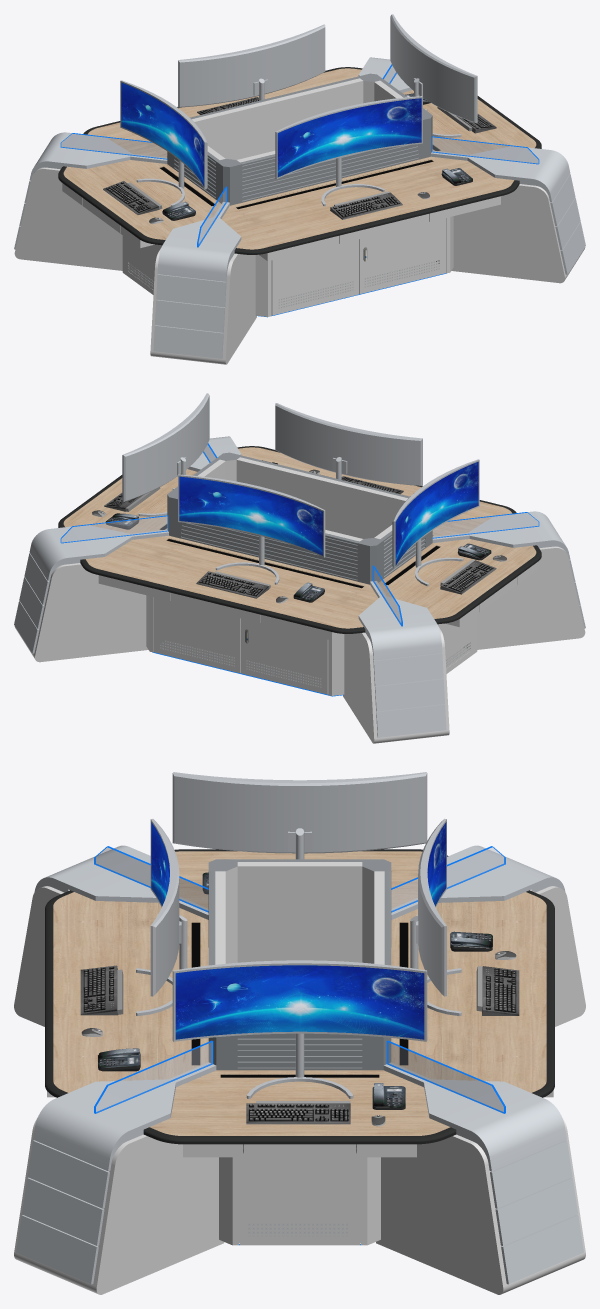
3 renders of one model, top to bottom at view 1: azimuth 30°, elevation 25°; view 2: azimuth 150°, elevation 25°; view 3: azimuth 270°, elevation 25°, orthographic. The views are drawn at different scales.
Parts seen in each view (by area): view 1: paint (×15), metal (×4), gray3_paint (×4), screen1 (×2), gray2_paint (×6), gray1_paint (×3), galss (×2), face-profile-bigger[1] (×2), [0136_Charcoal]; view 2: paint (×14), metal (×4), gray3_paint (×4), screen1 (×2), gray1_paint (×4), gray2_paint (×6), galss (×2), face-profile-bigger[1] (×2), [0136_Charcoal]; view 3: paint (×15), metal (×4), gray3_paint (×4), screen1 (×3), gray1_paint (×6), galss (×4), gray2_paint (×5), face-profile-bigger[1] (×3), black_paint, [0136_Charcoal] (×2).
Part boxes in pixels (box(x1,y1,x2,y2)): paint (×15): box(14, 68, 585, 364); metal (×4): box(14, 57, 585, 358); gray3_paint (×4): box(120, 14, 477, 189); screen1 (×2): box(121, 82, 421, 186); gray2_paint (×6): box(174, 76, 439, 308); gray1_paint (×3): box(125, 78, 363, 294); galss (×2): box(61, 134, 538, 163); face-profile-bigger[1] (×2): box(103, 181, 402, 219); [0136_Charcoal]: box(236, 160, 432, 209); paint (×14): box(14, 447, 585, 743); metal (×4): box(14, 436, 585, 737); gray3_paint (×4): box(122, 393, 479, 568); screen1 (×2): box(179, 461, 478, 565); gray1_paint (×4): box(146, 457, 474, 695); gray2_paint (×6): box(160, 455, 425, 687); galss (×2): box(61, 513, 538, 542); face-profile-bigger[1] (×2): box(196, 560, 496, 598); [0136_Charcoal]: box(167, 539, 363, 588); paint (×15): box(14, 851, 585, 1294); metal (×4): box(16, 845, 583, 1284); gray3_paint (×4): box(150, 772, 446, 1041); screen1 (×3): box(151, 822, 446, 1039); gray1_paint (×6): box(215, 862, 384, 964); galss (×4): box(94, 847, 505, 1112); gray2_paint (×5): box(208, 871, 391, 1070); face-profile-bigger[1] (×3): box(80, 965, 519, 1122); black_paint: box(143, 1127, 456, 1144); [0136_Charcoal] (×2): box(191, 923, 408, 1065).
Size of the model in its own units: 3.54 by 1.38 by 2.69.
389 materials, 22 textured.
